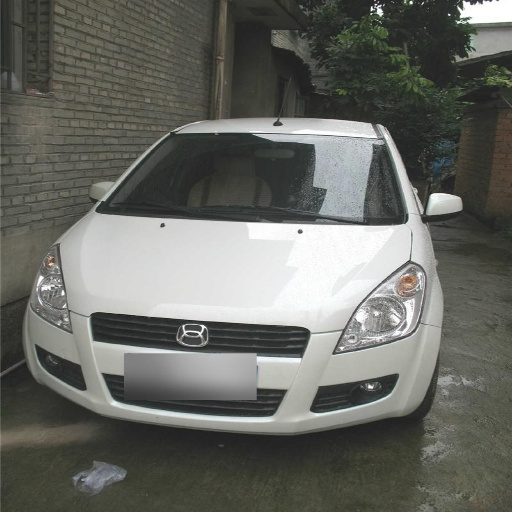front_bumper: (25, 295, 440, 434)
front_right_light: (31, 247, 70, 330)
hood: (61, 212, 412, 328)
